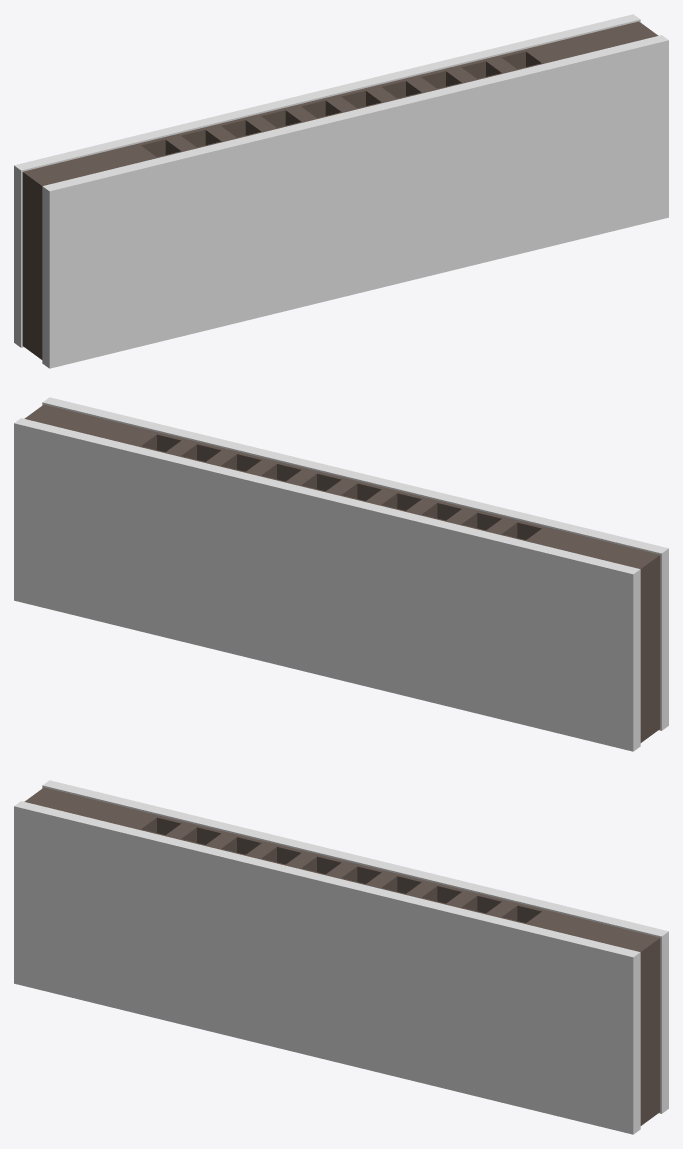
The model's file is generic_blues_harp.glb.
3 renders of one model, top to bottom at view 1: azimuth 30°, elevation 25°; view 2: azimuth 150°, elevation 25°; view 3: azimuth 330°, elevation 25°, orthographic.
Visible parts, largest first — view 1: world, tmplfp6btza.stl; view 2: world, tmplfp6btza.stl; view 3: world, tmplfp6btza.stl.
Boxes of the visible parts, bbox=[...] form: world: bbox=[14, 14, 668, 368]; tmplfp6btza.stl: bbox=[22, 21, 658, 359]; world: bbox=[14, 397, 668, 751]; tmplfp6btza.stl: bbox=[24, 404, 660, 742]; world: bbox=[14, 780, 668, 1134]; tmplfp6btza.stl: bbox=[24, 787, 660, 1125].
Size of the model in its own units: 100 by 27.5 by 10.
